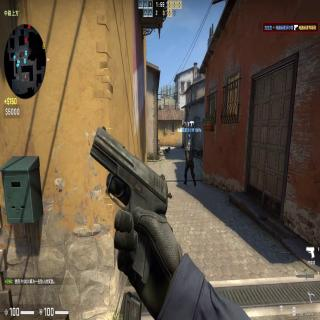CT-Body: (184, 139, 196, 187)
